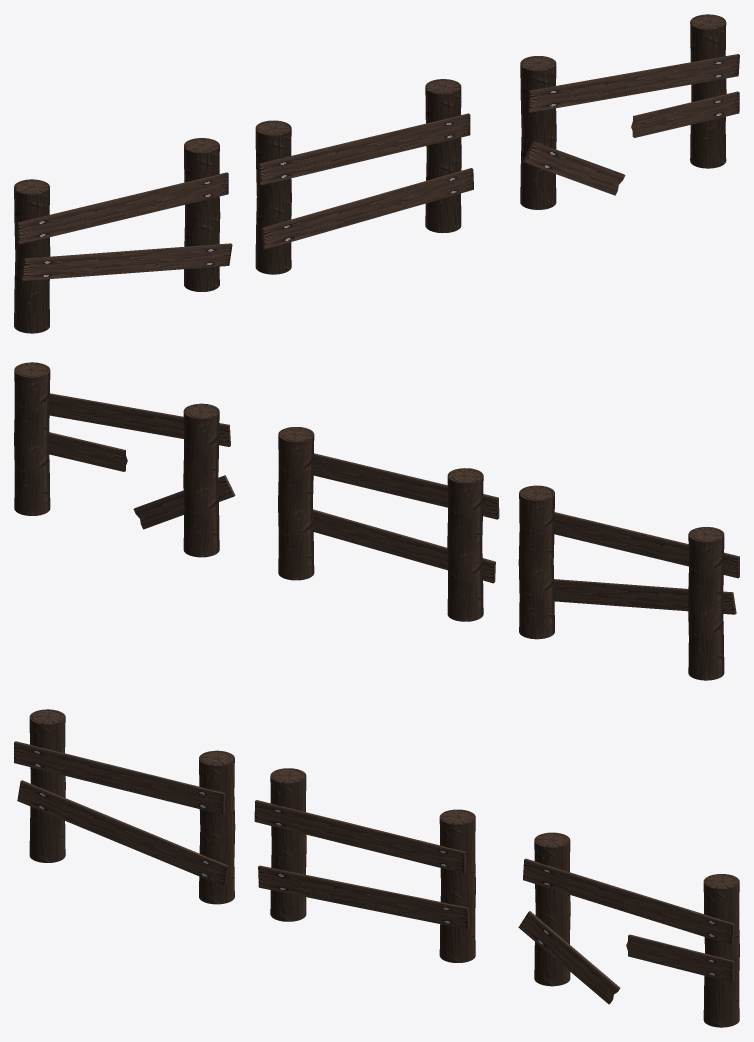
Rendered from cercas.fbx.
3 views of the same model, one above another, from view 1: azimuth 30°, elevation 25°; view 2: azimuth 150°, elevation 25°; view 3: azimuth 330°, elevation 25° (orthographic).
Visible parts, largest first — view 1: cerca2, cerca1, cerca3; view 2: cerca2, cerca3, cerca1; view 3: cerca3, cerca2, cerca1.
Boxes of the visible parts, x1,y1,x2,y2 form: cerca2: (255,79,473,274); cerca1: (520,14,739,209); cerca3: (14,138,232,333); cerca2: (278,427,499,621); cerca3: (518,485,739,680); cerca1: (14,362,235,557); cerca3: (14,709,235,904); cerca2: (254,768,475,962); cerca1: (518,832,739,1027).
Size of the model in its own units: 2062 by 386 by 95.02.
17 materials, 17 textured.
